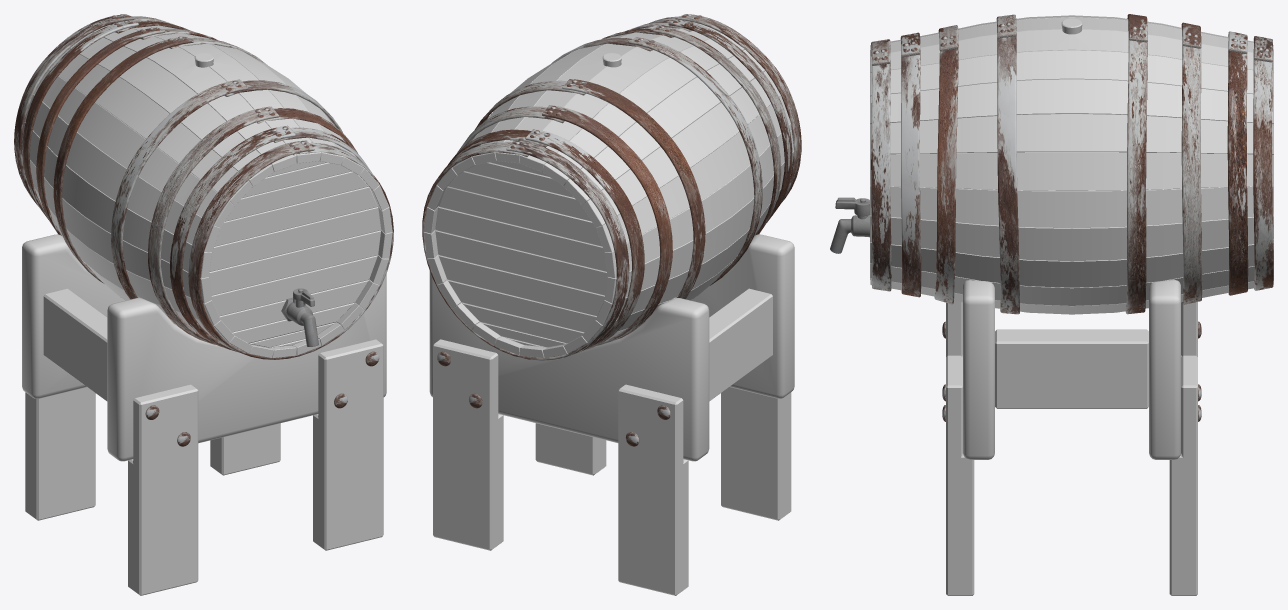
The model's file is AlcoholCask.fbx.
The picture shows the model from 3 angles, left to right: view 1: azimuth 30°, elevation 25°; view 2: azimuth 150°, elevation 25°; view 3: azimuth 270°, elevation 25°; orthographic projection. The views are drawn at different scales.
Visible parts, largest first — view 1: wooden barrel., Barrel stand; view 2: wooden barrel., Barrel stand; view 3: wooden barrel., Barrel stand.
Part boxes in pixels (x1,y1,x2,y2): wooden barrel.: (14, 14, 393, 359); Barrel stand: (22, 234, 386, 595); wooden barrel.: (422, 14, 801, 360); Barrel stand: (429, 234, 794, 595); wooden barrel.: (830, 14, 1273, 314); Barrel stand: (942, 279, 1201, 595).
Size of the model in its own units: 83.79 by 139 by 110.
